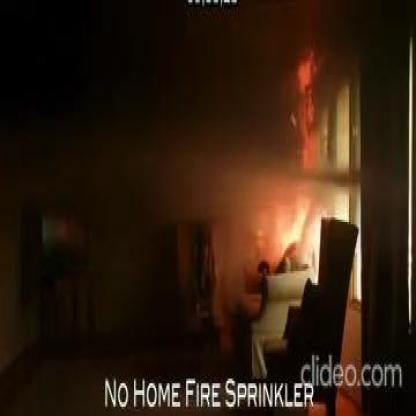fire: (289, 56, 321, 178), (280, 206, 307, 257)
